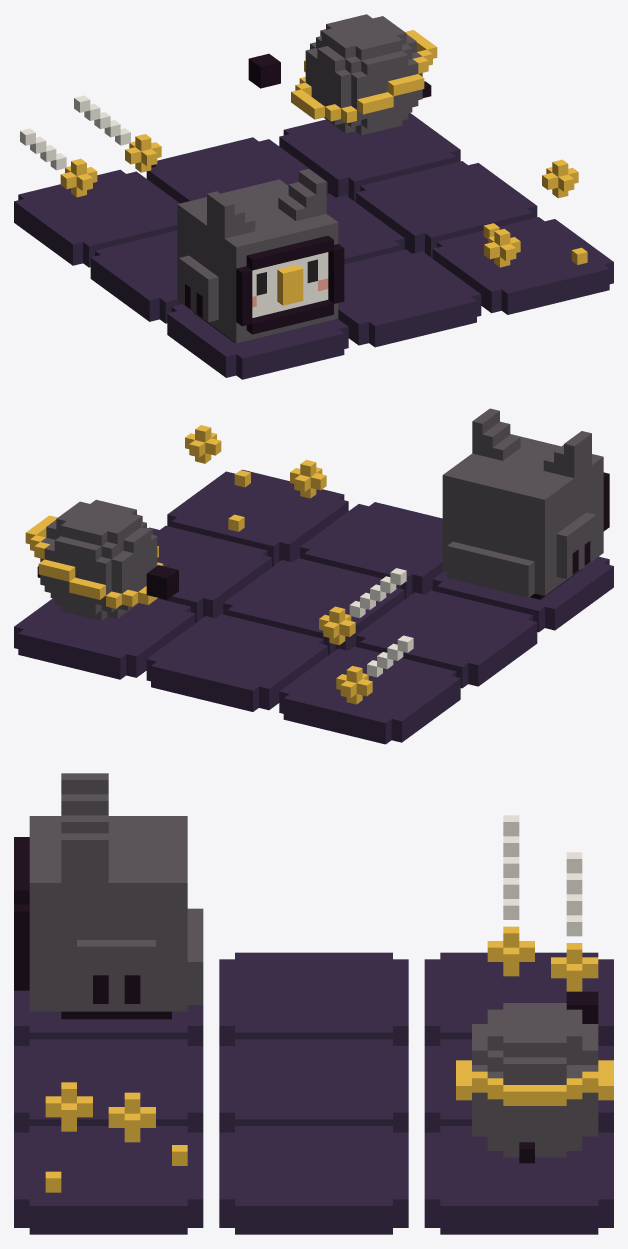
The model's file is hard_seven_tile.obj.
The picture shows the model from 3 angles, top to bottom: view 1: azimuth 30°, elevation 25°; view 2: azimuth 150°, elevation 25°; view 3: azimuth 270°, elevation 25°; orthographic projection. The views are drawn at different scales.
Bounding box in the file's own units: 3.8 × 1.5 × 3.8.
1 material, 1 textured.
